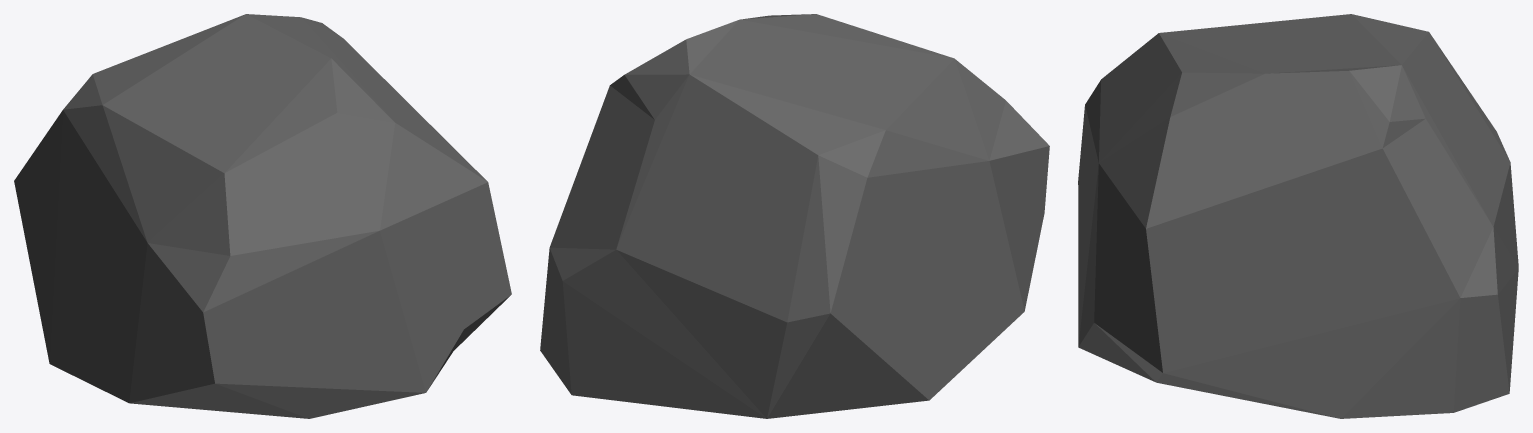
The model's file is Stone_3.fbx.
3 renders of one model, left to right at view 1: azimuth 30°, elevation 25°; view 2: azimuth 150°, elevation 25°; view 3: azimuth 270°, elevation 25°, orthographic.
Parts seen in each view (by area): view 1: Stone_3; view 2: Stone_3; view 3: Stone_3.
Boxes of the visible parts, box(x1,y1,x2,y2) form: Stone_3: box(14, 14, 511, 418); Stone_3: box(540, 14, 1049, 418); Stone_3: box(1078, 14, 1518, 418).
Bounding box in the file's own units: 0.6917 × 0.6985 × 0.5354.
